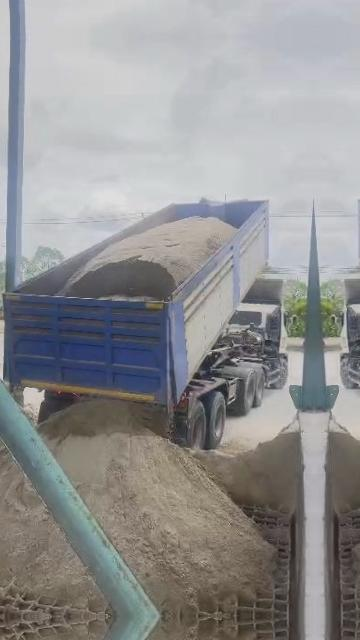sand: (39, 401, 273, 616), (0, 450, 107, 611), (59, 217, 236, 299), (196, 425, 301, 513), (0, 424, 2, 453)
